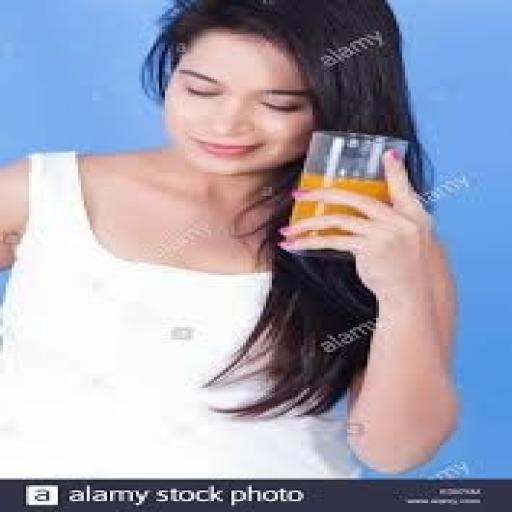drinking: (283, 128, 408, 252)
